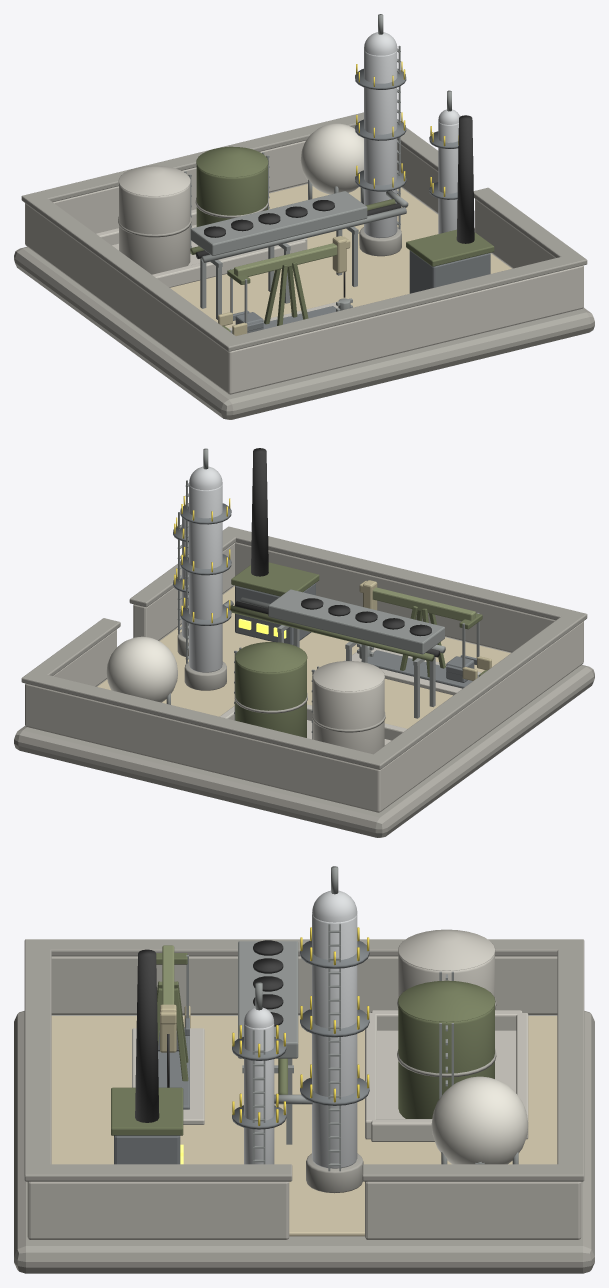
Rendered from oilwell_9.glb.
The picture shows the model from 3 angles, top to bottom: view 1: azimuth 30°, elevation 25°; view 2: azimuth 150°, elevation 25°; view 3: azimuth 270°, elevation 25°; orthographic projection. The views are drawn at different scales.
Visible parts, largest first — view 1: Cube.102, Cube, Cube.001, Cube.104, Cube.103, Cylinder.002, Cylinder.015, Cube.056, Cube.105, Cube.100, Sphere.003, Cube.101 (+16 smaller); view 2: Cube.100, Cube, Cube.104, Cube.001, Cube.102, Cylinder.015, Cube.101, Cube.103, Cube.056, Cube.105, Cylinder.004, Cylinder.002 (+16 smaller); view 3: Cube.001, Cube, Cube.104, Cube.108, Cube.106, Cylinder.015, Cylinder.004, Sphere.003, Cube.103, Cube.101, Cube.105, Cube.109 (+29 smaller).
Boxes of the visible parts, x1,y1,x2,y2 form: Cube.102: (222, 265, 583, 394); Cube: (14, 183, 594, 419); Cube.001: (170, 184, 511, 328); Cube.104: (31, 207, 222, 389); Cube.103: (219, 255, 587, 351); Cylinder.002: (119, 184, 190, 274); Cylinder.015: (364, 50, 397, 238); Cube.056: (190, 191, 367, 255); Cube.105: (26, 196, 235, 347); Cube.100: (25, 140, 307, 249); Sphere.003: (300, 123, 363, 194); Cube.101: (21, 112, 363, 206); Cube.100: (25, 683, 386, 812); Cube: (14, 585, 594, 837); Cube.104: (386, 625, 579, 807); Cube.001: (97, 586, 510, 728); Cube.102: (235, 542, 583, 666); Cylinder.015: (189, 484, 222, 672); Cube.101: (21, 672, 389, 769); Cube.103: (222, 526, 587, 621); Cube.056: (268, 589, 444, 654); Cube.105: (372, 613, 583, 765); Cylinder.004: (235, 660, 306, 737); Cylinder.002: (313, 679, 384, 753); Cube.001: (51, 1016, 557, 1236); Cube: (14, 1011, 594, 1273); Cube.104: (51, 956, 557, 1014); Cube.108: (41, 1181, 289, 1239); Cube.106: (365, 1181, 567, 1239); Cylinder.015: (312, 914, 357, 1168); Cylinder.004: (398, 1004, 494, 1118); Sphere.003: (431, 1076, 528, 1164); Cube.103: (24, 939, 51, 1181); Cube.101: (557, 939, 584, 1181); Cube.105: (36, 939, 572, 956); Cube.109: (36, 1164, 292, 1181).
Bounding box in the file's own units: 1.92 × 1.26 × 1.92.
